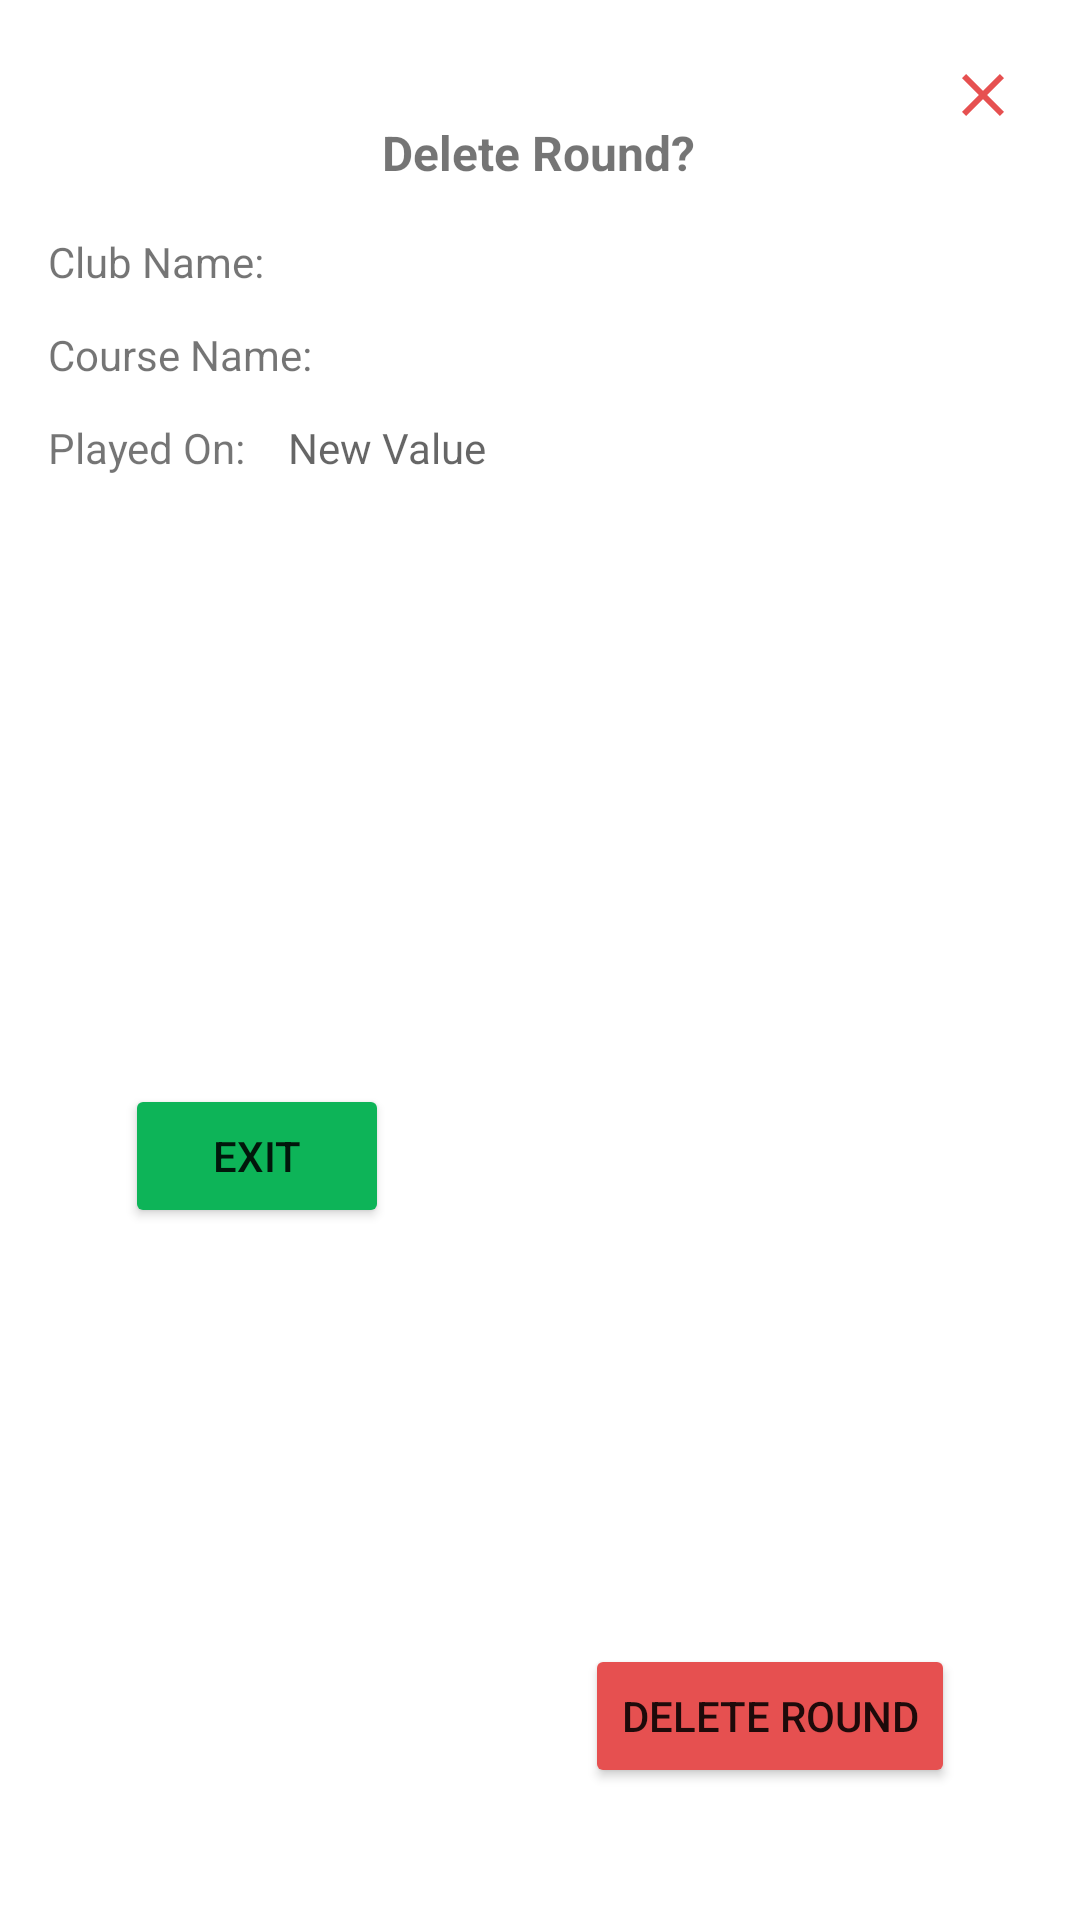

Icons on this 1080px×1920px Android screen, each with the point to tap as (x=x, y=y):
close button: (x=983, y=95)
